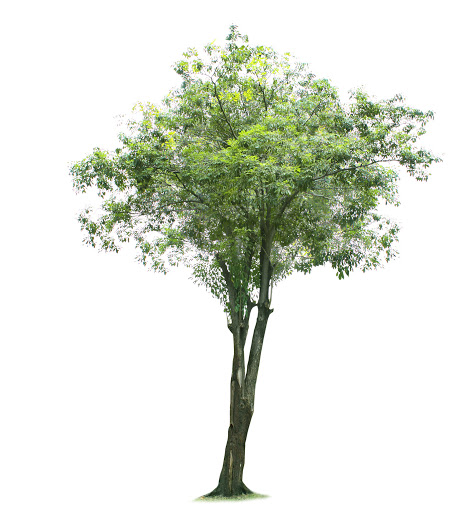tree: (66, 19, 446, 500)
